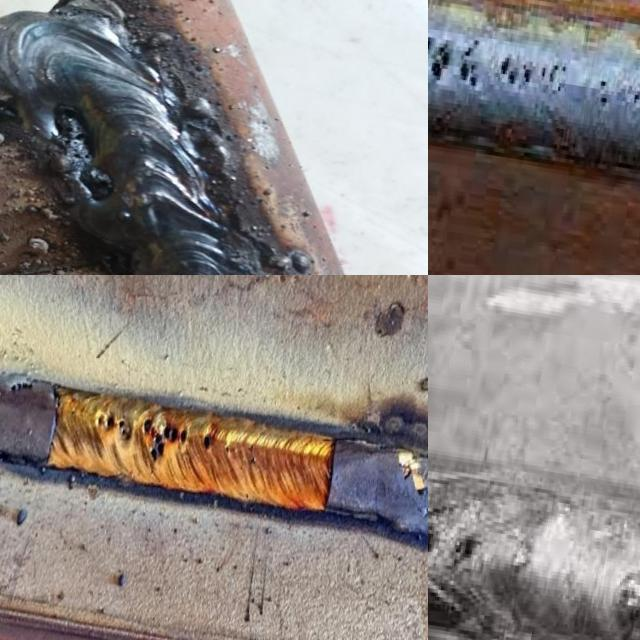defect: (52, 102, 117, 200), (428, 30, 483, 94), (140, 414, 190, 467), (440, 519, 480, 568), (497, 46, 535, 95), (538, 51, 570, 105), (94, 412, 131, 442), (597, 76, 613, 110), (9, 380, 34, 393), (628, 88, 640, 112), (202, 432, 213, 456), (247, 442, 256, 465), (223, 440, 230, 455)
